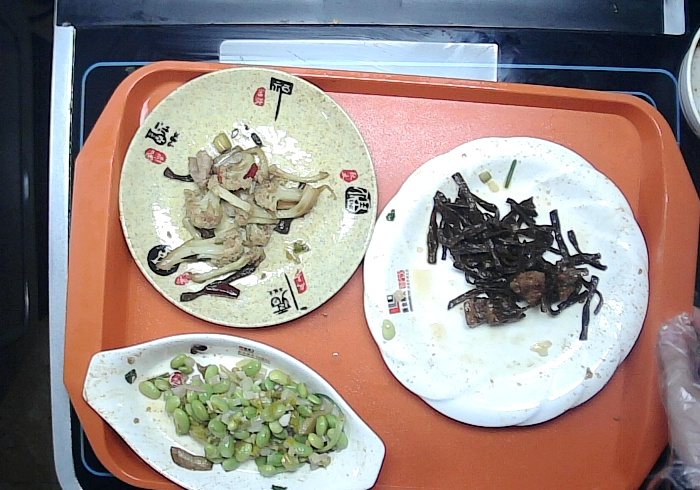NLDX-Bai_Zhe_Yuan_Pan: (361, 136, 650, 428)
NLDX-Fu_Zi_Yuan_Pan: (117, 65, 381, 331)
NLDX-Yu_Pan: (82, 333, 384, 490)
